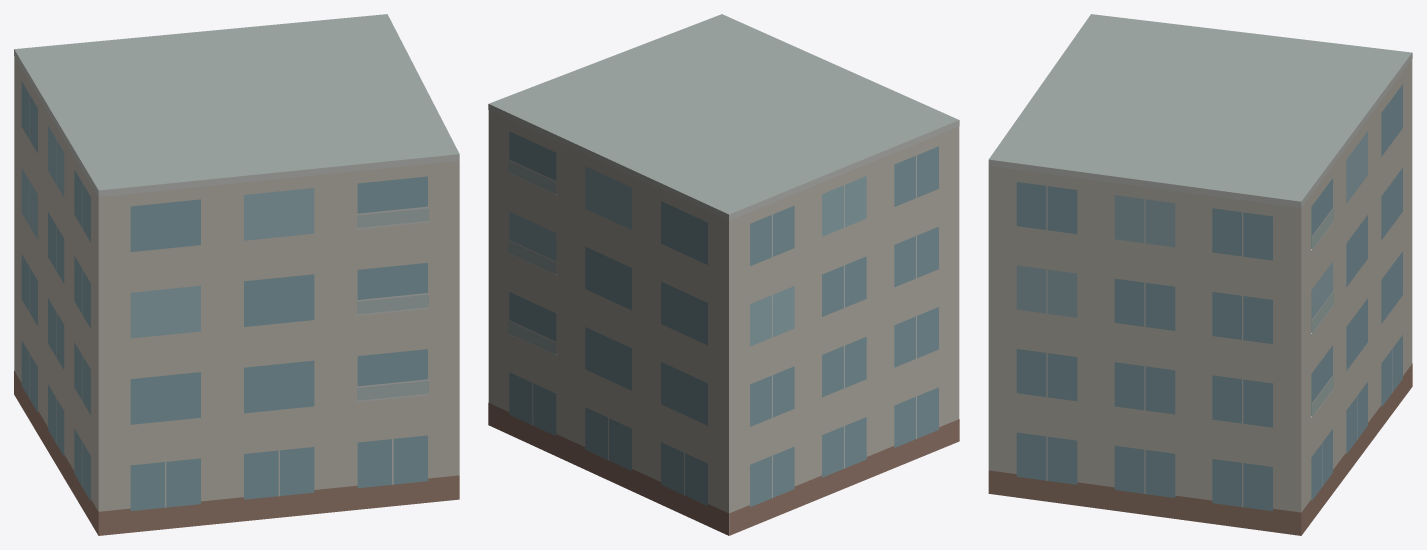
File: survey-upis-32985881.glb
The picture shows the model from 3 angles, left to right: view 1: azimuth 30°, elevation 25°; view 2: azimuth 150°, elevation 25°; view 3: azimuth 270°, elevation 25°; orthographic projection. The views are drawn at different scales.
Visible parts, largest first — view 1: survey-upis-32985881.tmp; view 2: survey-upis-32985881.tmp; view 3: survey-upis-32985881.tmp.
Part boxes in pixels (x1,y1,x2,y2): survey-upis-32985881.tmp: (14, 14, 459, 535); survey-upis-32985881.tmp: (488, 14, 959, 535); survey-upis-32985881.tmp: (988, 14, 1412, 535).
Size of the model in its own units: 15.31 by 12.7 by 14.61.
